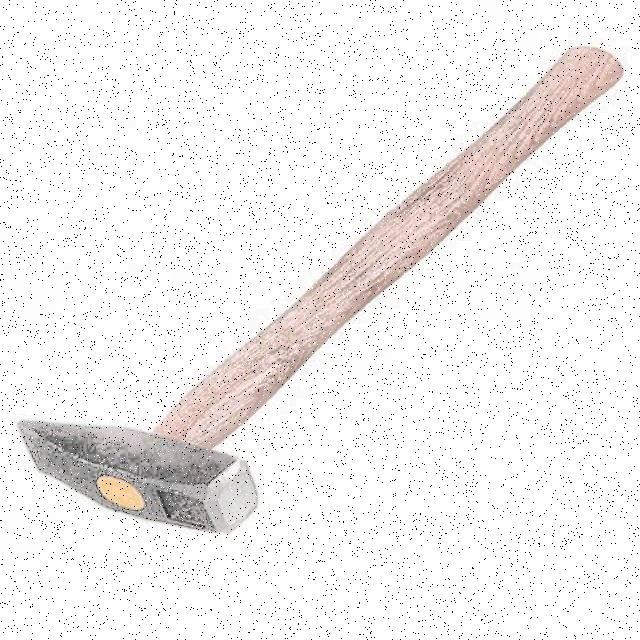hammer: (17, 46, 622, 533)
